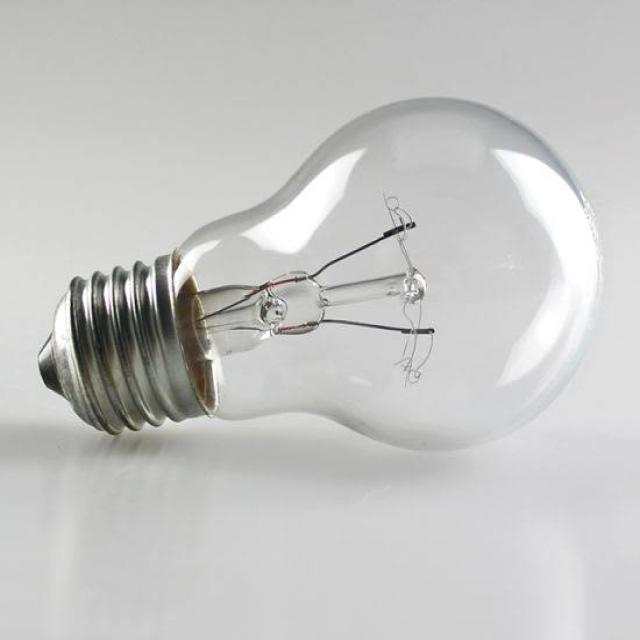bulb: (23, 69, 640, 478)
